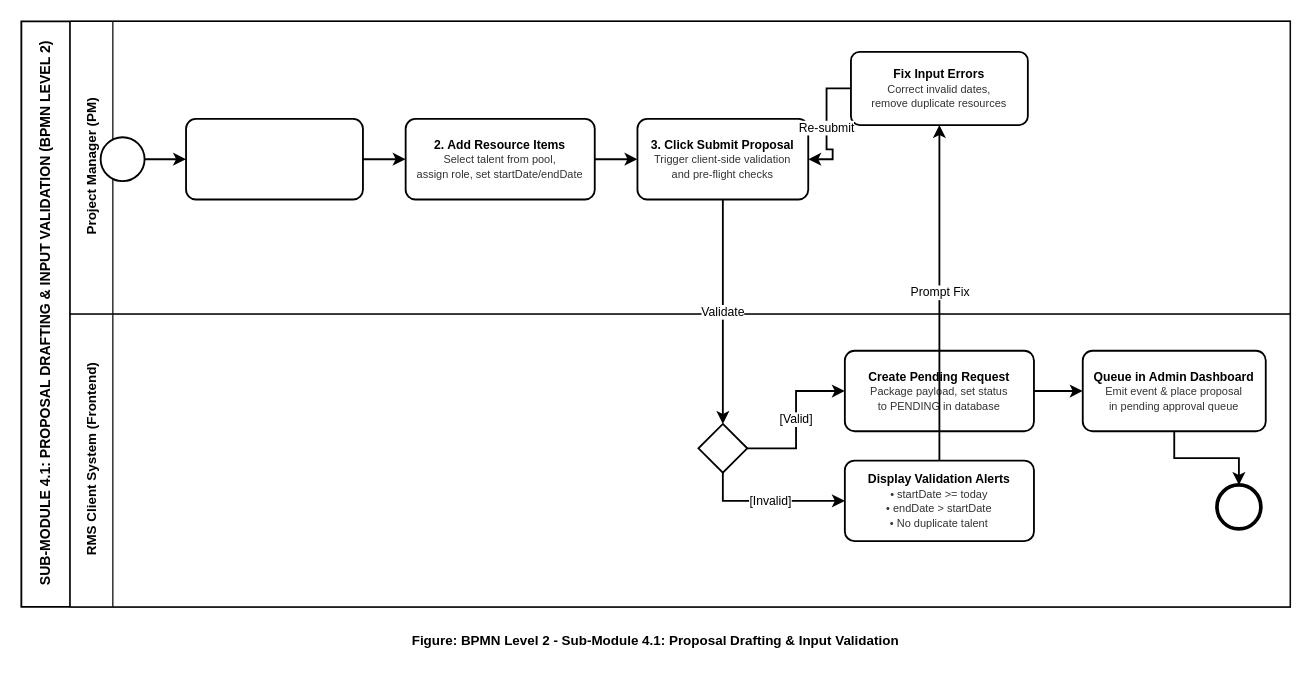
The diagram is 1313 pixels wide and 677 high, and some of its shapes have lost their labels. Here are the shapes that lost their labels. From the top down, the centre of each, then its label:
point 122,159: New Client Project Inception
point 274,158: 1. Enter Project Metadata Input Client, Project Name, & Scope Description
point 722,447: Form Data Valid?
point 1238,506: Proposal Queued as PENDING
